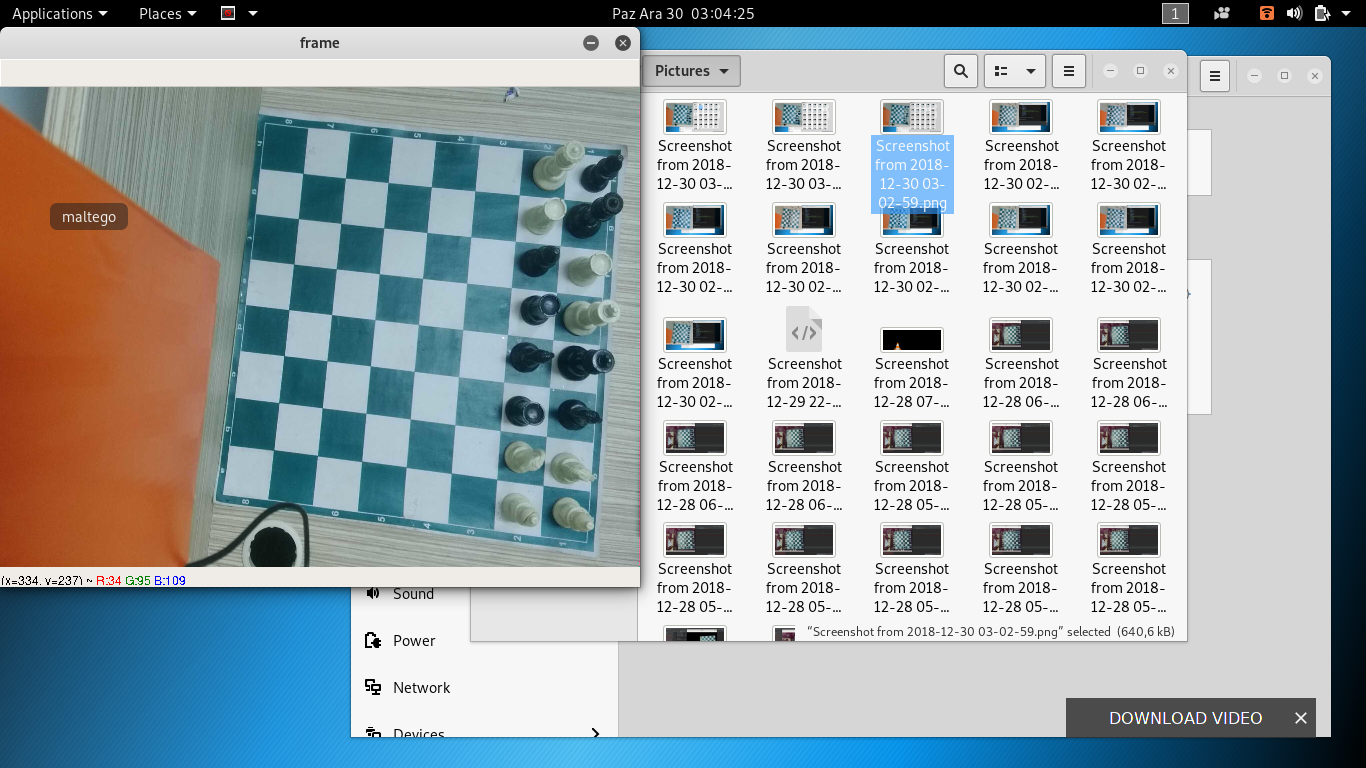BeyazAt: (550, 450, 597, 486), (505, 439, 545, 478)
BeyazFil: (552, 495, 595, 533), (501, 491, 540, 529)
BeyazKale: (524, 196, 567, 234), (567, 253, 612, 286)
BeyazSah: (563, 297, 620, 336)
BeyazVezir: (533, 138, 585, 192)
SiyahAt: (508, 340, 555, 375), (556, 397, 601, 433)
SiyahFil: (583, 152, 624, 192), (520, 243, 561, 277)
SiyahKale: (506, 395, 547, 430), (520, 292, 561, 326)
SiyahSah: (558, 344, 616, 382)
